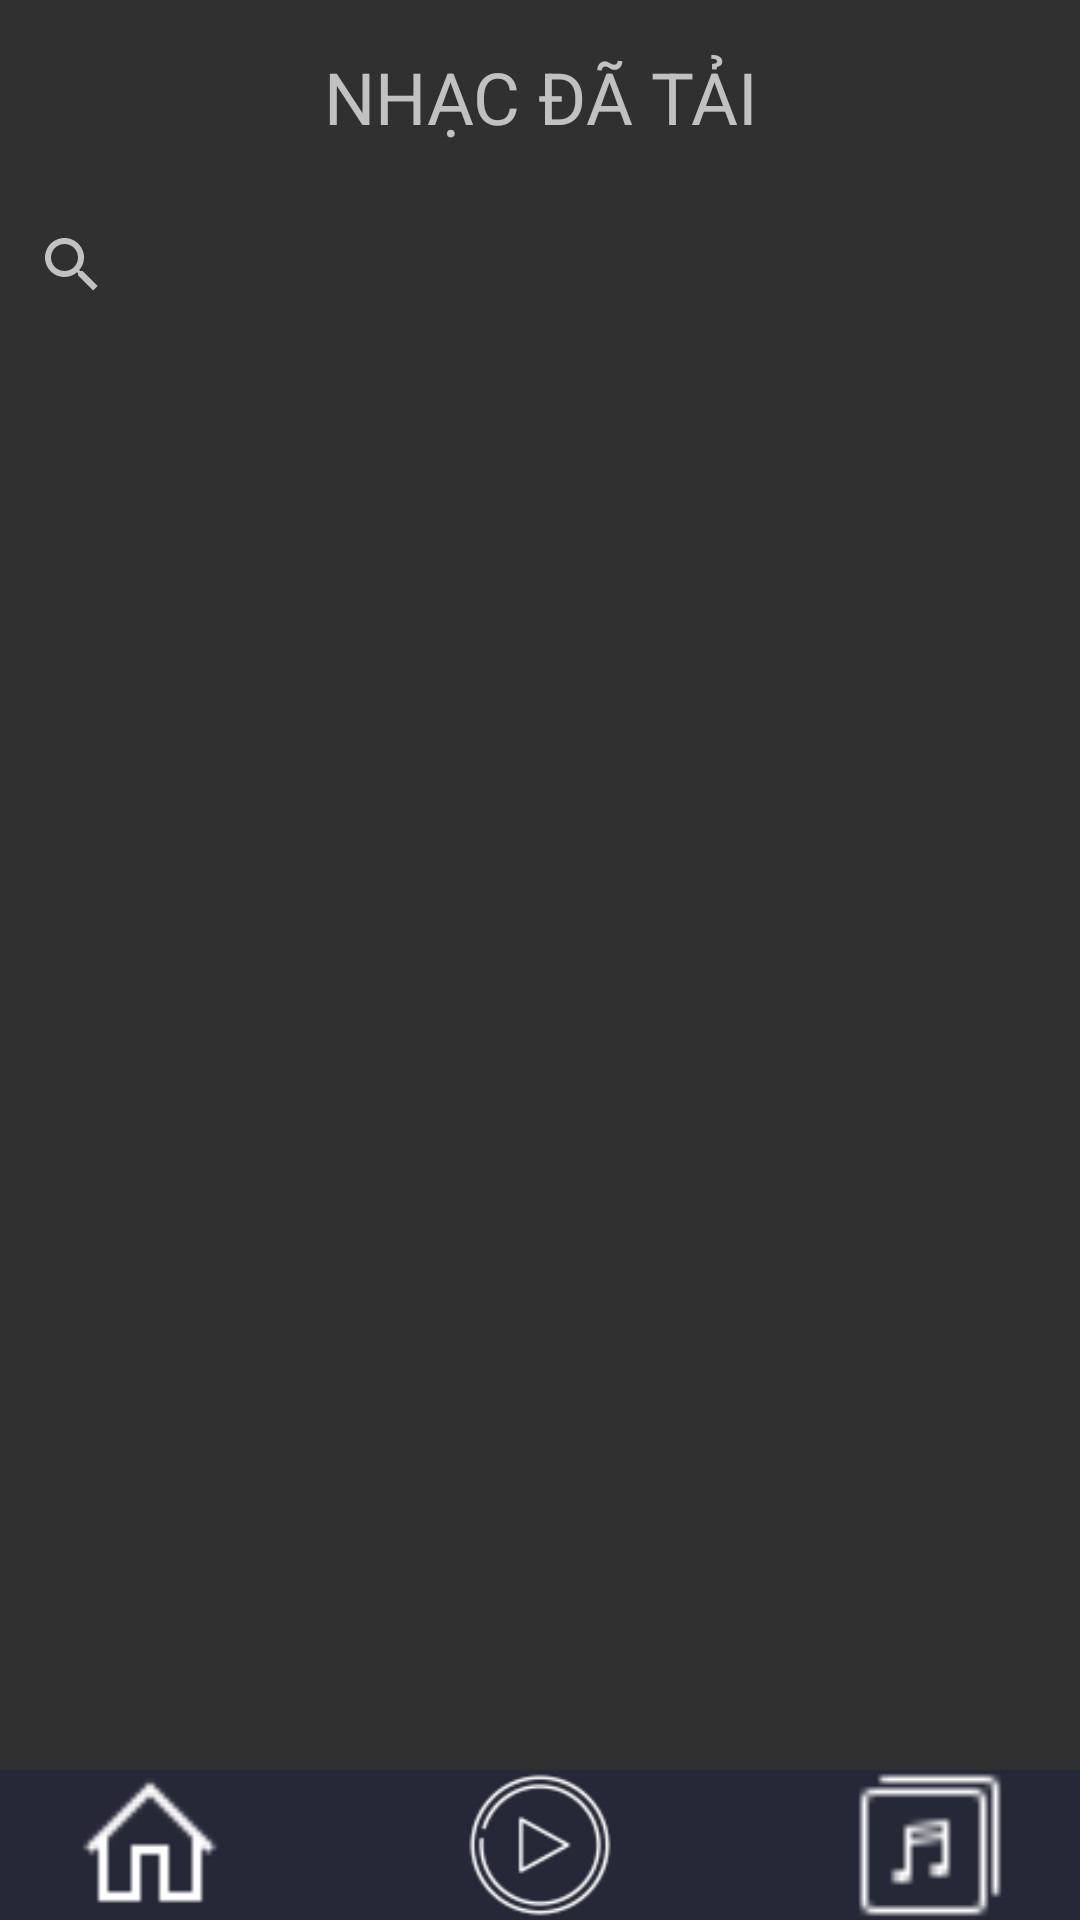

Named icons in this screenshot (1080*1920) and their centers, (x=x, y=y):
album: (x=930, y=1845)
home: (x=150, y=1842)
play: (x=540, y=1845)
